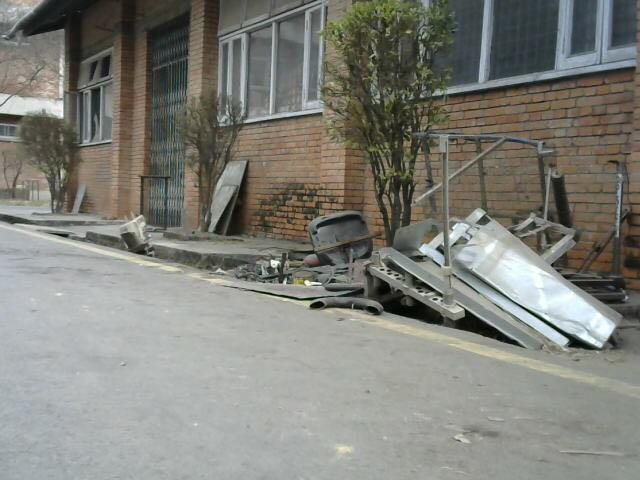Building: (26, 7, 359, 212)
Road: (0, 224, 640, 480)
Tree: (332, 2, 440, 228), (22, 107, 81, 211)
